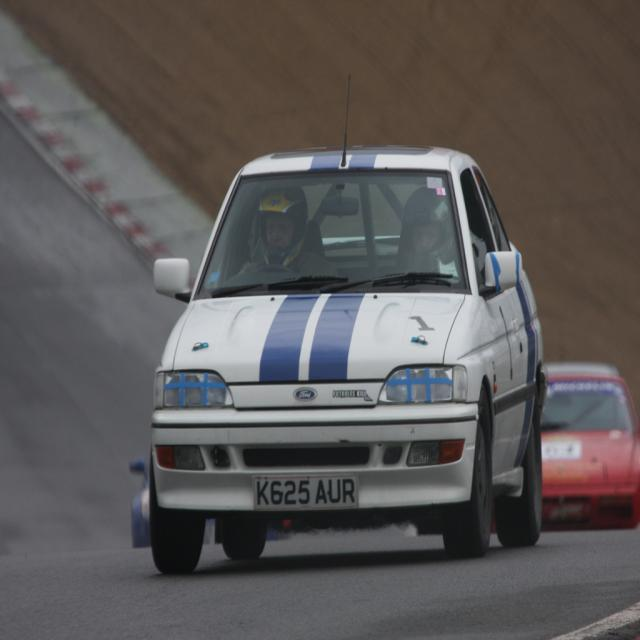car: (139, 119, 540, 575)
